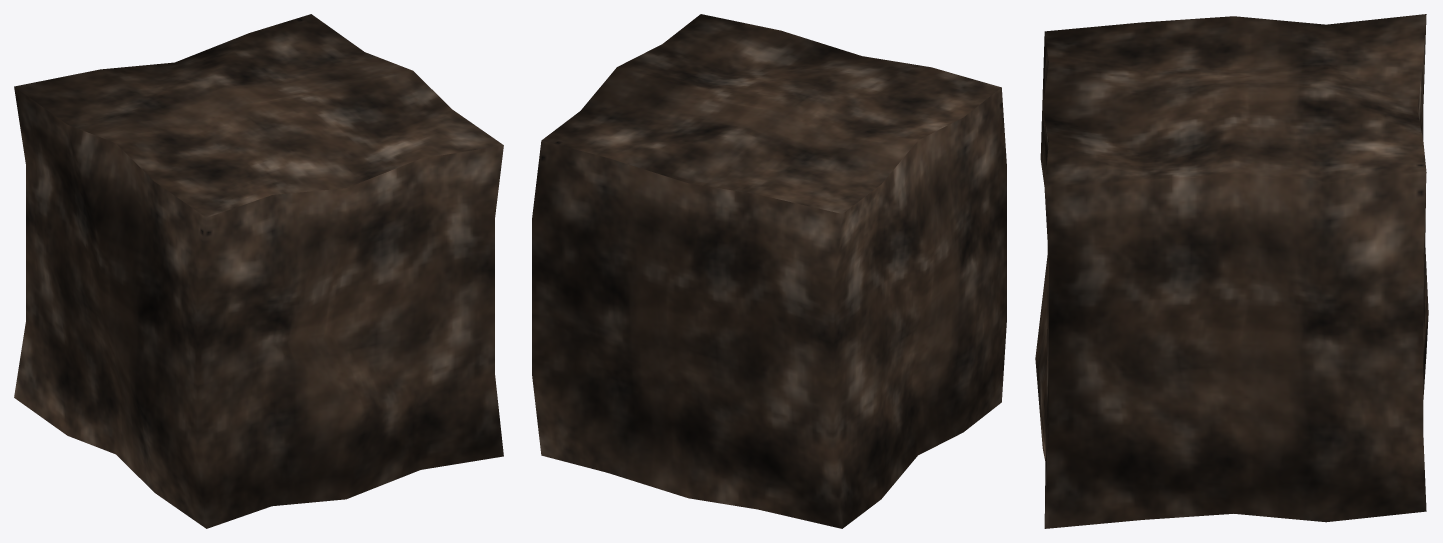
Rendered from mud.glb.
3 renders of one model, left to right at view 1: azimuth 30°, elevation 25°; view 2: azimuth 150°, elevation 25°; view 3: azimuth 270°, elevation 25°, orthographic. The views are drawn at different scales.
Parts seen in each view (by area): view 1: Cube; view 2: Cube; view 3: Cube.
Part boxes in pixels (<box>): Cube: <box>14,14,503,528</box>; Cube: <box>532,14,1006,528</box>; Cube: <box>1035,14,1428,528</box>.
Bounding box in the file's own units: 1.07 × 1.06 × 1.05.
Materials: 1 (1 with a texture image).
